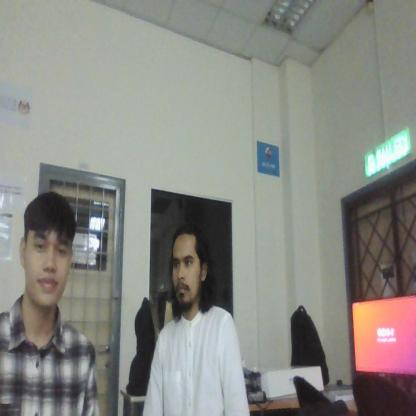Open-Eyes: (26, 230, 71, 264), (168, 247, 196, 276)
